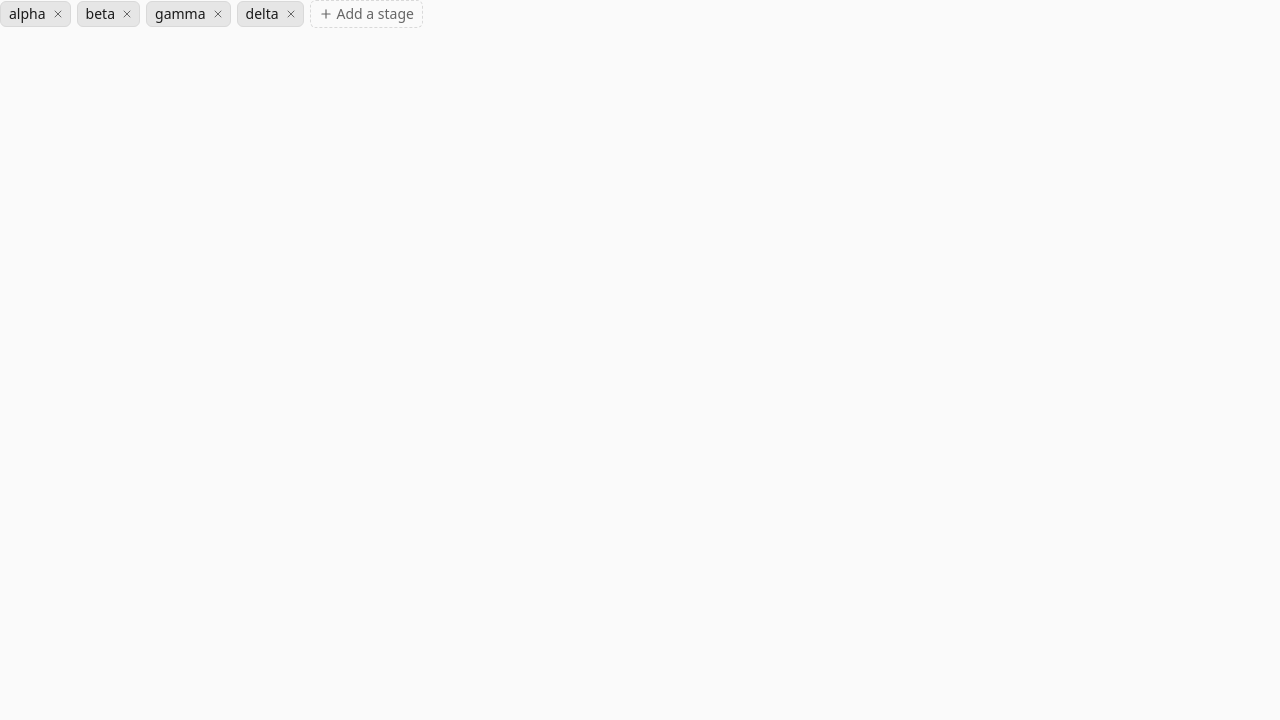
Test: MultiSelect › says_so_when_nothing_matches_or_nothing_is_left
Click the dropdown named "Dependencies": x=366, y=14 [310,0,423,28]
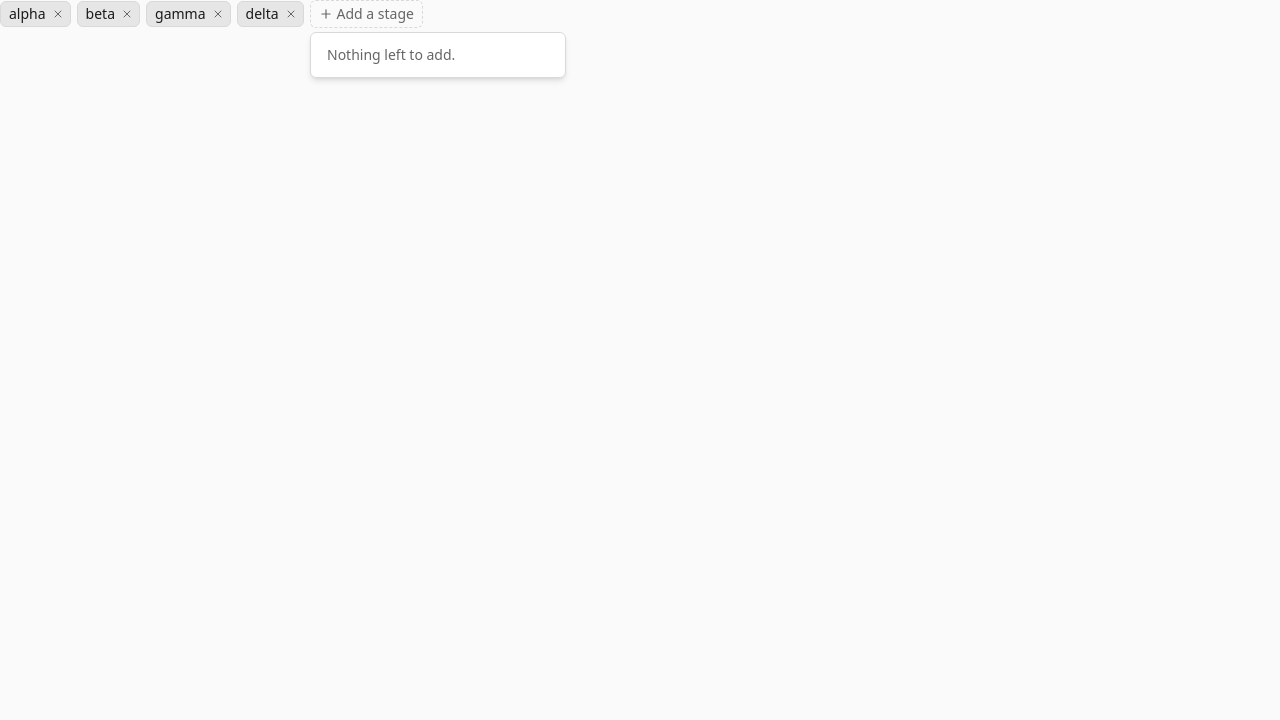
Expected: the text "Nothing left to add." is shown, [327,45,455,64]
